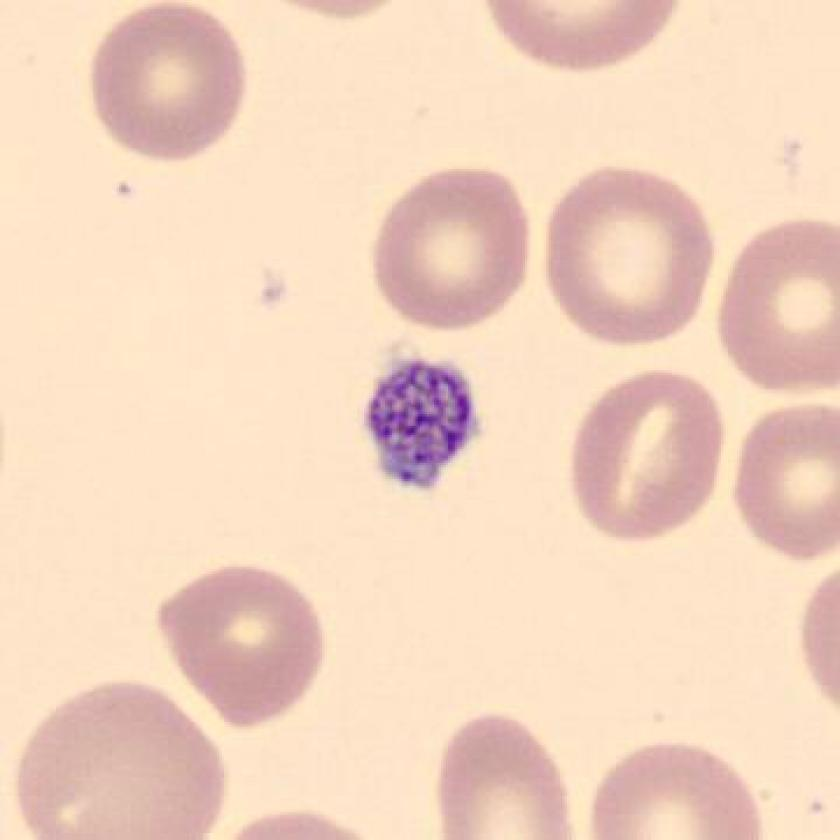platelets: (354, 341, 494, 508)
